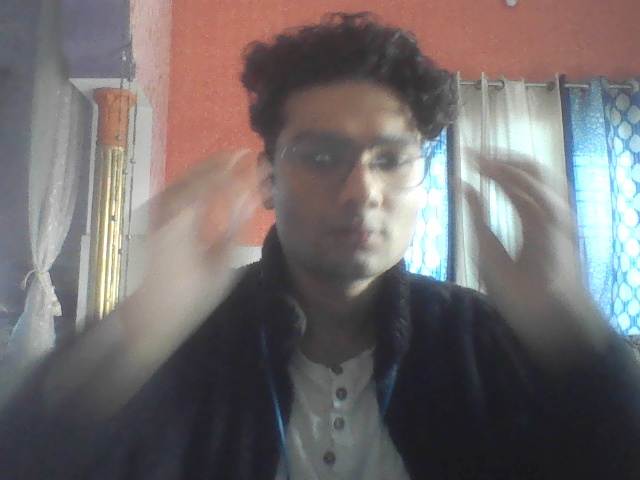real: (244, 18, 444, 301)
